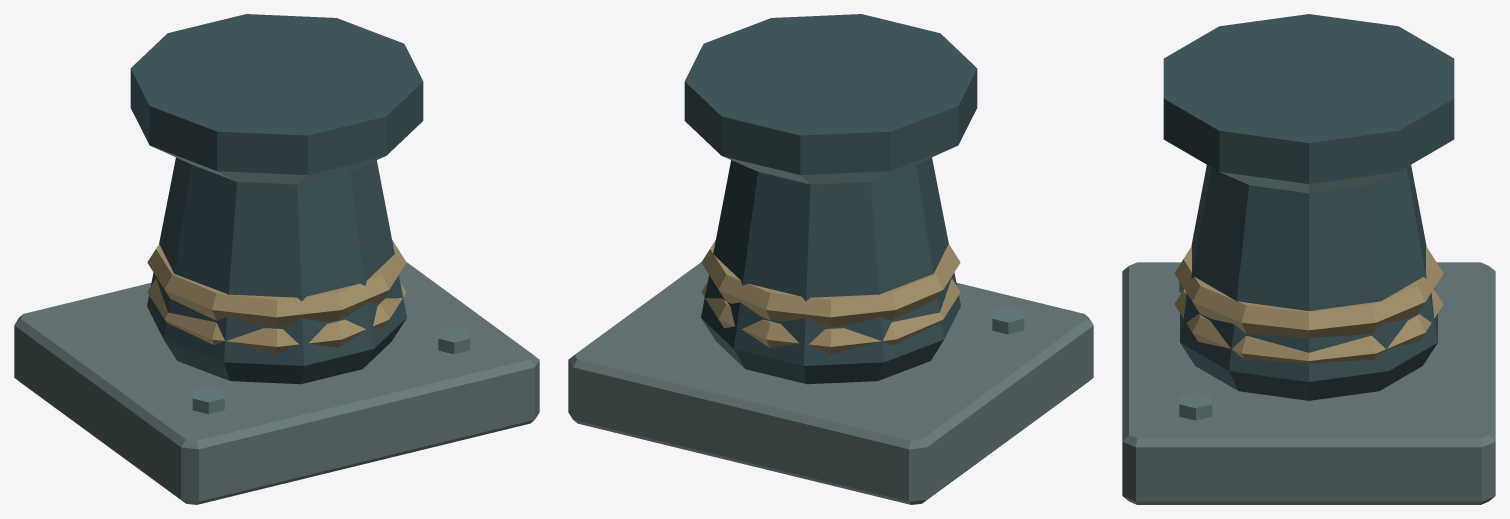
The model's file is bollard.glb.
The picture shows the model from 3 angles, left to right: view 1: azimuth 30°, elevation 25°; view 2: azimuth 150°, elevation 25°; view 3: azimuth 270°, elevation 25°; orthographic projection. The views are drawn at different scales.
Parts seen in each view (by area): view 1: bollard__body; view 2: bollard__body; view 3: bollard__body.
Boxes of the visible parts, left/top/right/bottom form: bollard__body: left=14, top=14, right=539, bottom=504; bollard__body: left=568, top=14, right=1093, bottom=504; bollard__body: left=1122, top=14, right=1495, bottom=504.
Size of the model in its own units: 0.38 by 0.33 by 0.33.
